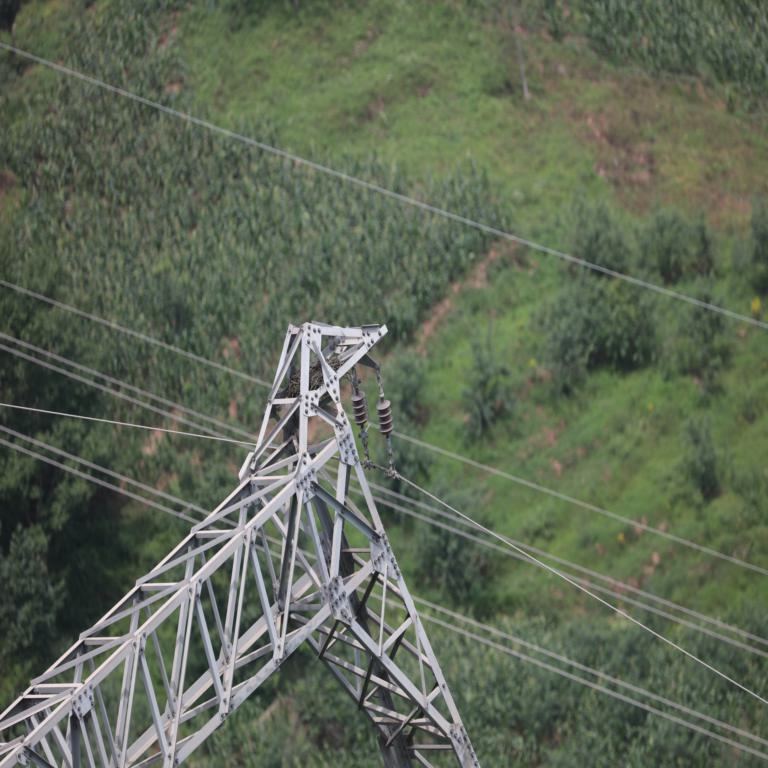nest: (285, 366, 338, 400)
